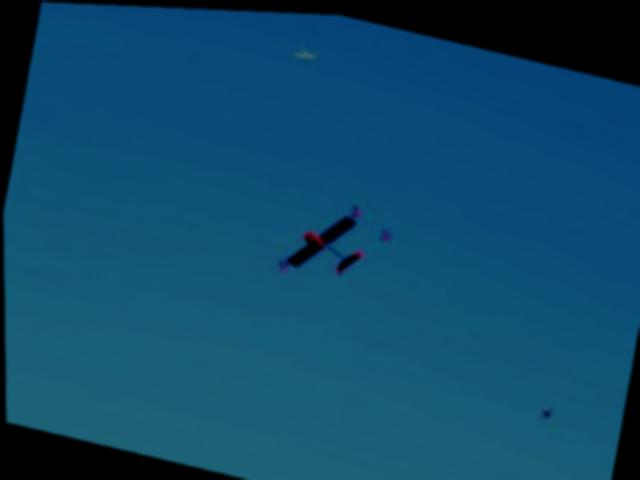uav: (265, 174, 382, 292)
